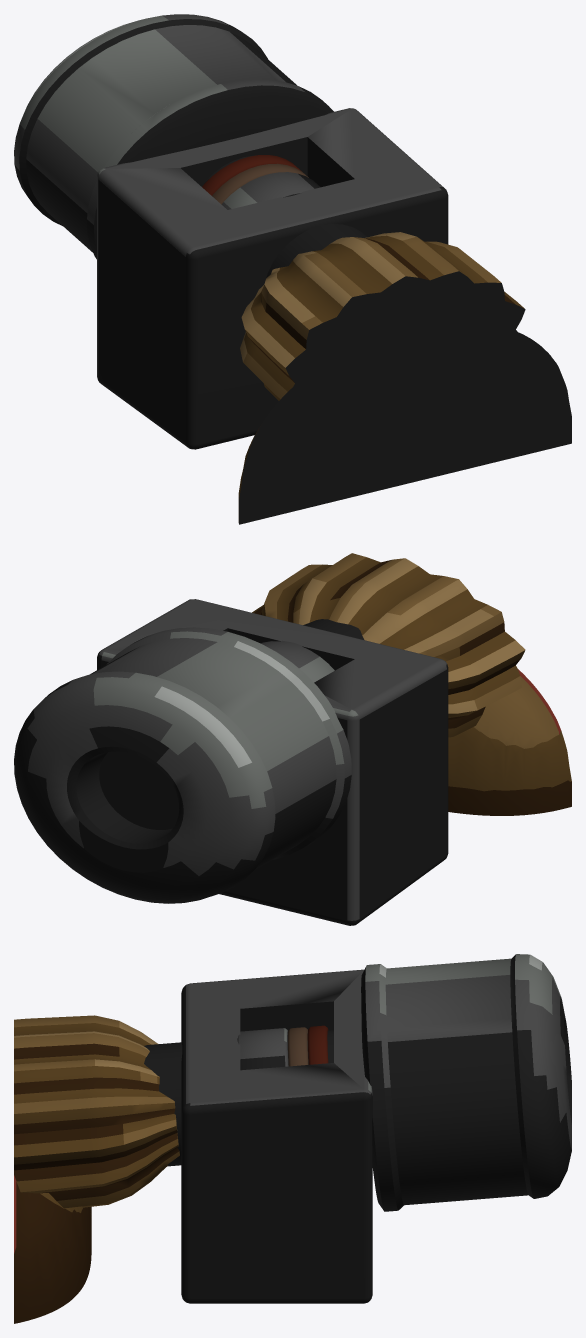
The model's file is dome_cannon_barrel.glb.
3 views of the same model, one above another, from view 1: azimuth 30°, elevation 25°; view 2: azimuth 150°, elevation 25°; view 3: azimuth 270°, elevation 25° (orthographic).
Parts seen in each view (by area): view 1: dome_cannon_barrel; view 2: dome_cannon_barrel; view 3: dome_cannon_barrel.
Part boxes in pixels (box(x1,y1,x2,y2)): dome_cannon_barrel: box(14, 14, 571, 524); dome_cannon_barrel: box(14, 553, 571, 925); dome_cannon_barrel: box(14, 954, 571, 1323).
Bounding box in the file's own units: 19.1 × 15.1 × 28.
